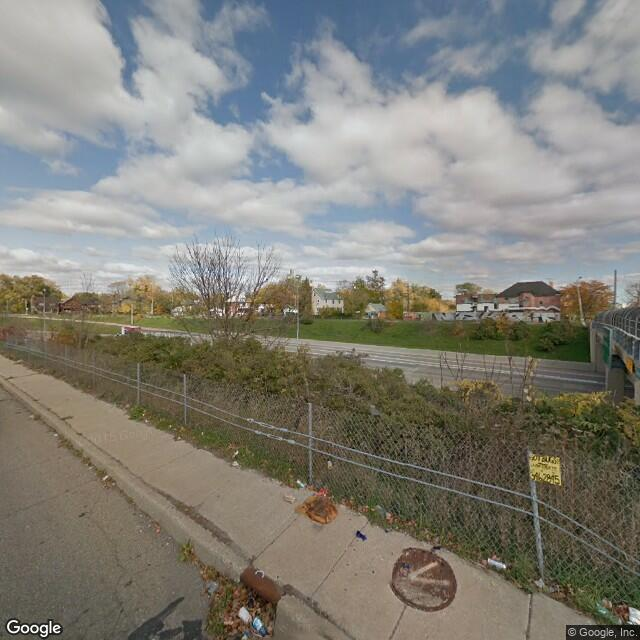litter: (295, 488, 339, 525), (233, 606, 267, 637), (485, 556, 509, 572), (354, 525, 369, 548), (231, 458, 241, 467), (101, 474, 110, 481), (28, 412, 34, 419), (53, 431, 57, 440)
